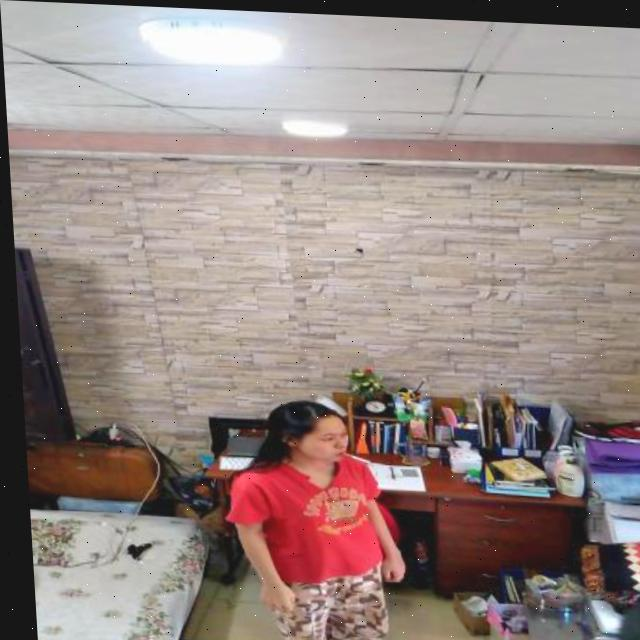cigarette: (338, 449, 367, 460)
